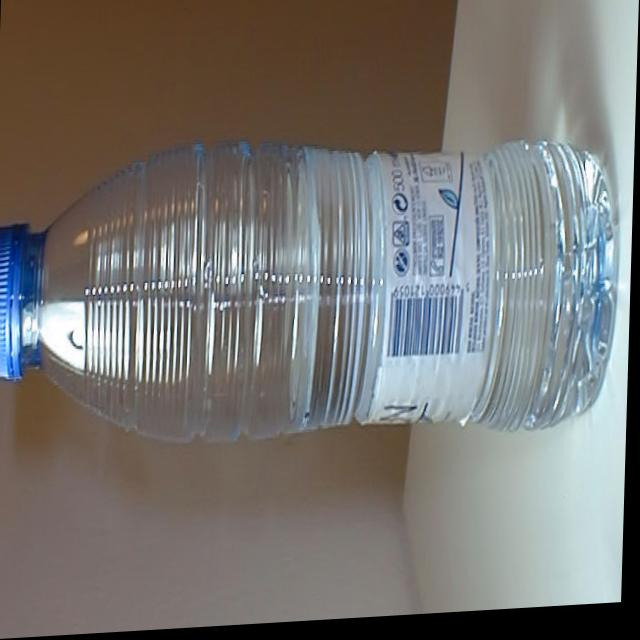bottle: (0, 135, 619, 451)
